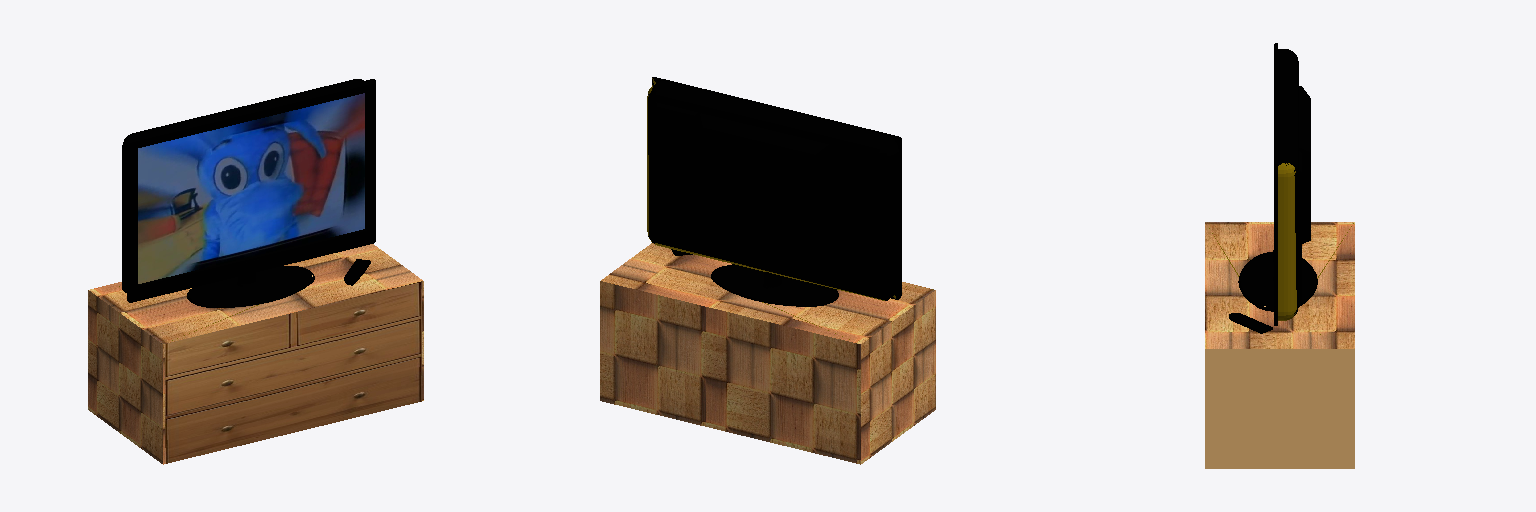
3 renders of one model, left to right at view 1: azimuth 30°, elevation 25°; view 2: azimuth 150°, elevation 25°; view 3: azimuth 270°, elevation 25°, orthographic.
Parts seen in each view (by area): view 1: Componente_1_003; view 2: Componente_1_003; view 3: Componente_1_003.
Part boxes in pixels (x1,y1,x2,y2): Componente_1_003: (88, 79, 423, 464); Componente_1_003: (600, 77, 935, 464); Componente_1_003: (1205, 43, 1354, 468).
Bounding box in the file's own units: 40.24 × 44.09 × 19.95.
5 materials, 4 textured.